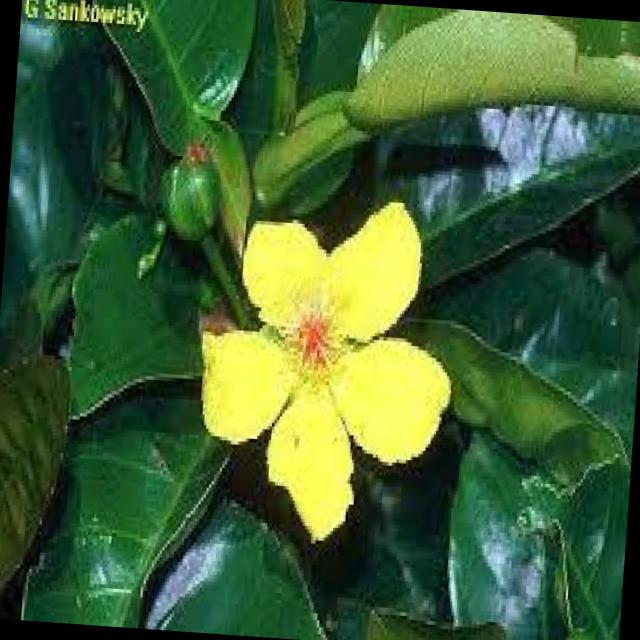Simpoh-Lak: (136, 165, 472, 542)
